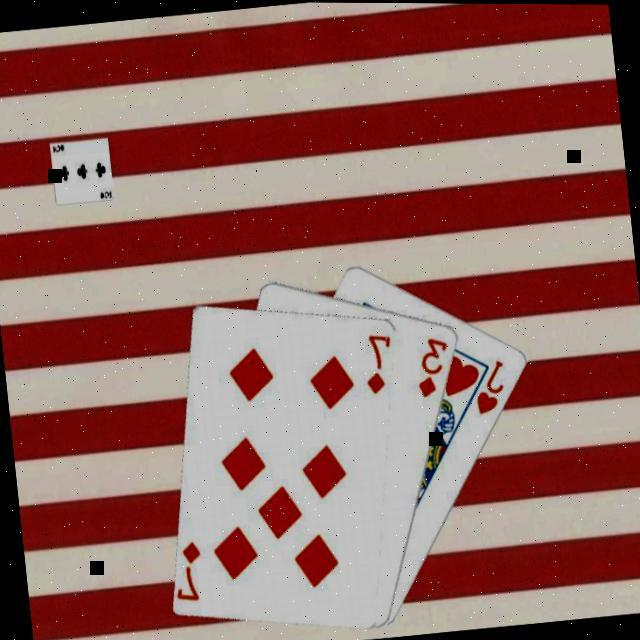3D: (409, 331, 453, 398)
7D: (357, 327, 394, 396), (170, 536, 207, 603)
JH: (467, 354, 509, 416)
